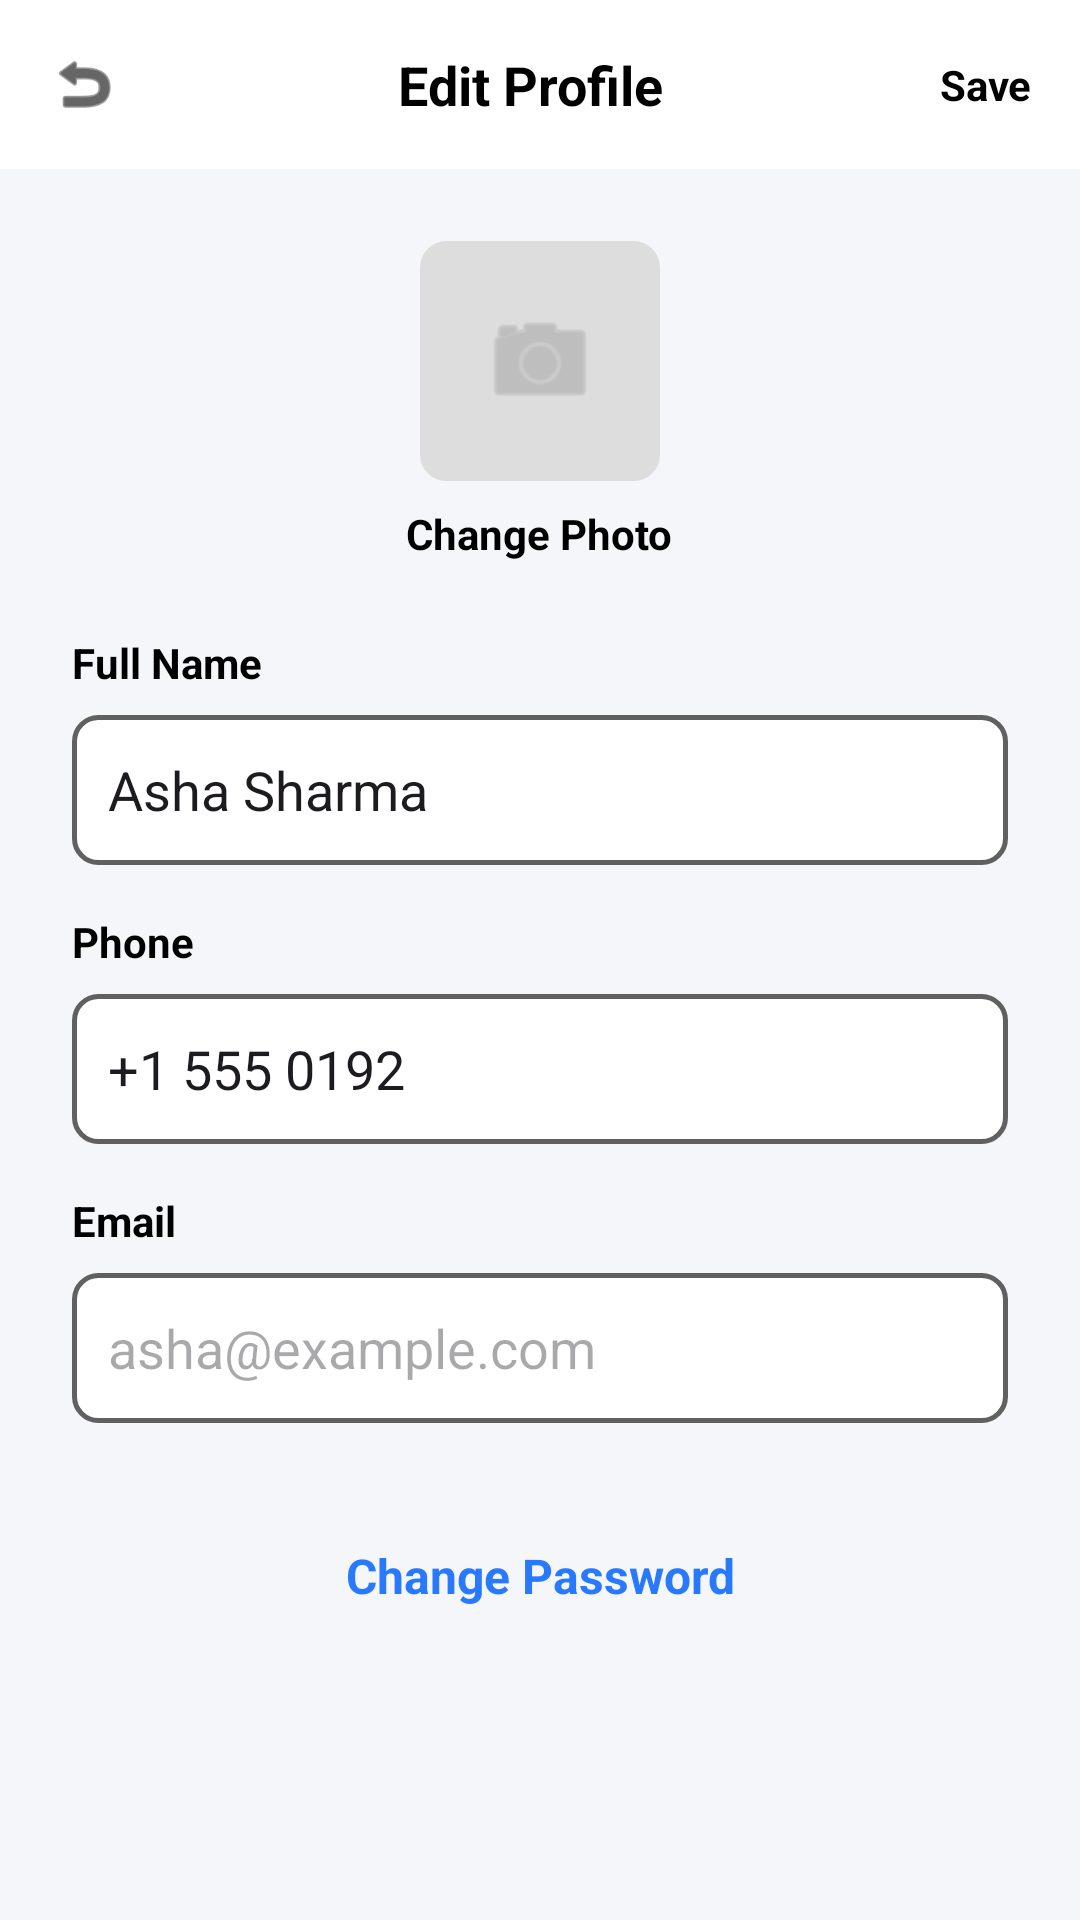

Icons on this 1080x1920 Android screen, each with its box as {"x1": x1, "y1": y1, "x2": x2, "y2": y2}:
camera: {"x1": 496, "y1": 325, "x2": 584, "y2": 393}
revert: {"x1": 59, "y1": 61, "x2": 111, "y2": 108}
